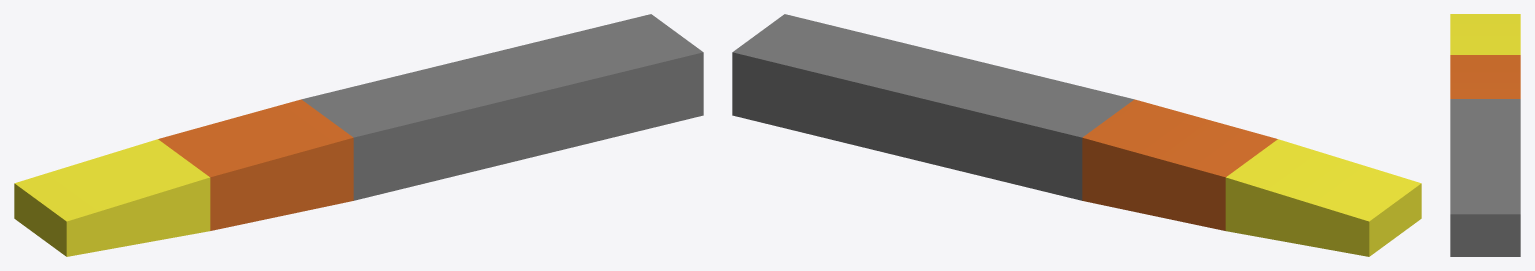
The model's file is Iron.fbx.
The picture shows the model from 3 angles, left to right: view 1: azimuth 30°, elevation 25°; view 2: azimuth 150°, elevation 25°; view 3: azimuth 270°, elevation 25°; orthographic projection. The views are drawn at different scales.
Parts seen in each view (by area): view 1: Iron; view 2: Iron; view 3: Iron.
Part boxes in pixels (box(x1,y1,x2,y2)): Iron: box(14, 14, 703, 256); Iron: box(732, 14, 1421, 256); Iron: box(1450, 14, 1520, 256).
Bounding box in the file's own units: 0.506 × 0.048 × 0.072.
